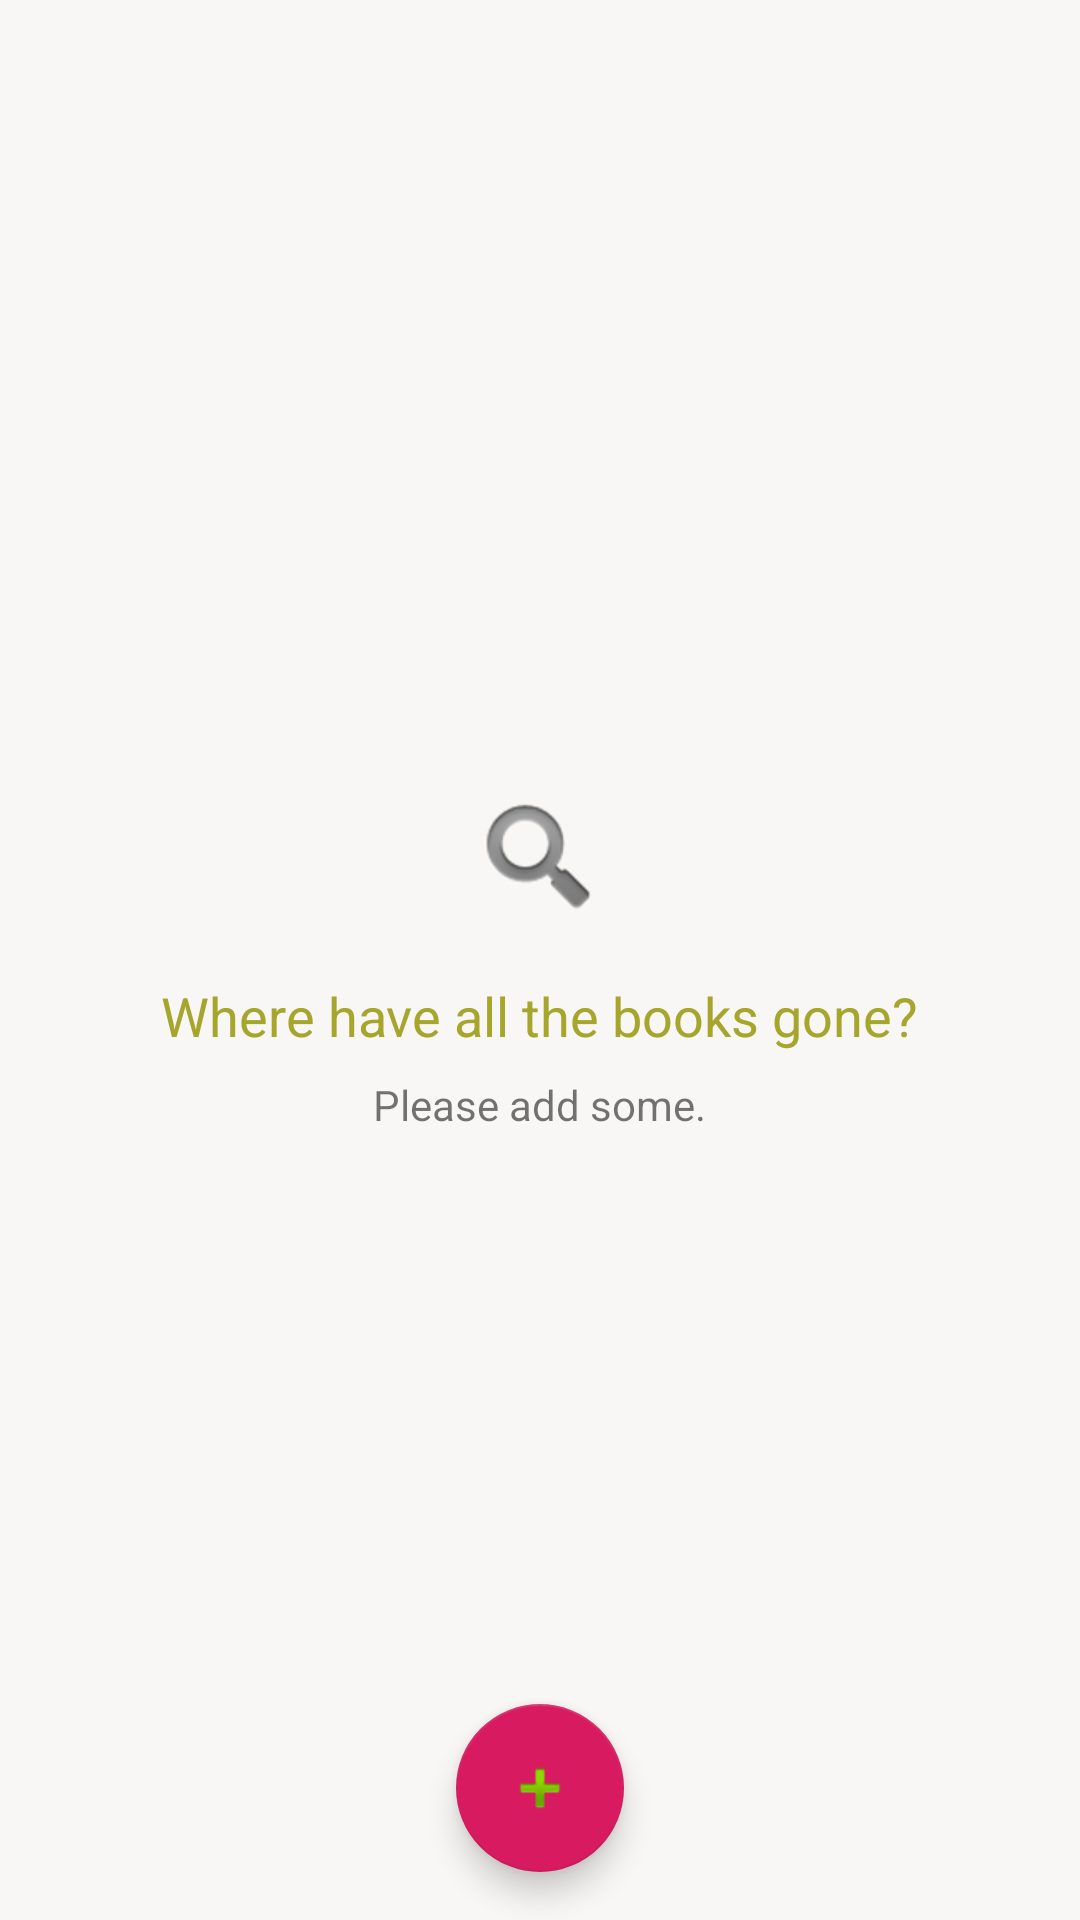

Point at icon controls on the screen. Image size 1080px x 1920px, points as point (x, y).
add: point (540, 1788)
search category: point (538, 856)
